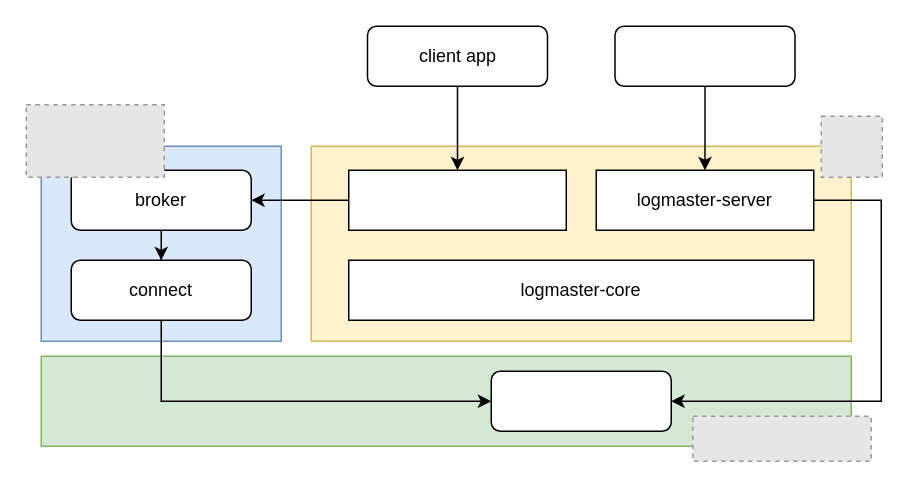
This 920x488 diagram has some shape labels left out. Grey dashed boxes stand in for pictures. The shapes that lost their labels are listed below. From the top down, each one's box as (x1, y1, x2, y2) in pixels, then its label:
(614, 25, 795, 86): user
(347, 169, 566, 230): logmaster-client
(490, 370, 671, 431): logmaster-db
